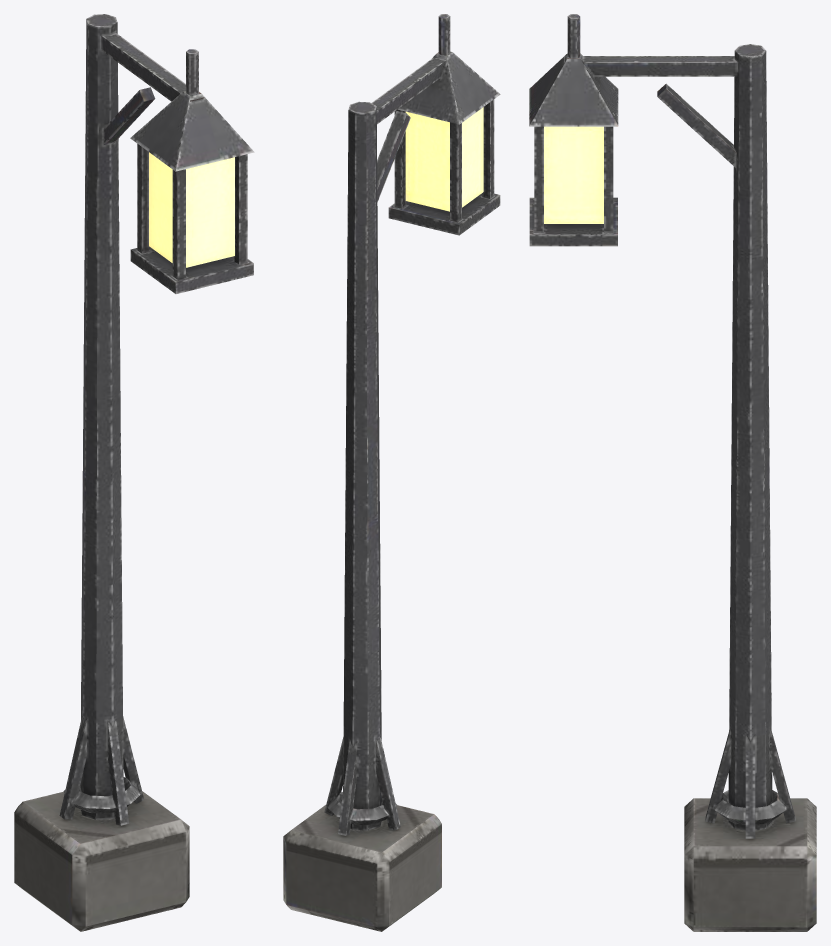
File: lampiao_rua.glb
3 renders of one model, left to right at view 1: azimuth 30°, elevation 25°; view 2: azimuth 150°, elevation 25°; view 3: azimuth 270°, elevation 25°, orthographic. The views are drawn at different scales.
Parts seen in each view (by area): view 1: lampiao_rua; view 2: lampiao_rua; view 3: lampiao_rua.
Part boxes in pixels (x1,y1,x2,y2): lampiao_rua: (14, 14, 254, 931); lampiao_rua: (283, 14, 500, 931); lampiao_rua: (529, 14, 816, 931).
Bounding box in the file's own units: 0.42 × 3.12 × 0.9114.
1 material, 1 textured.
